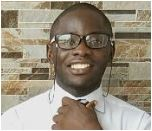without_facemask: (59, 51, 101, 84)
